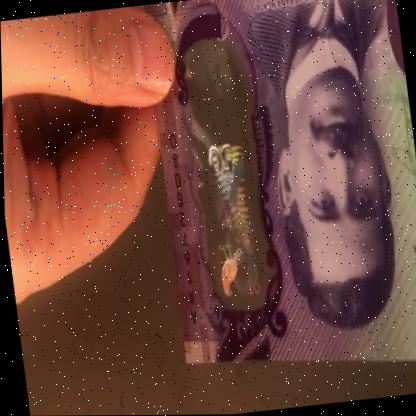50F: (190, 68, 267, 305)
